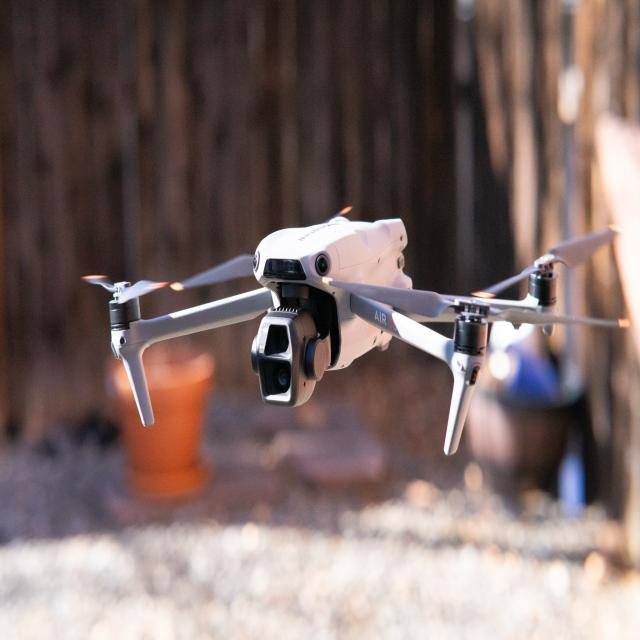UAV - Drone: (86, 144, 640, 478)
